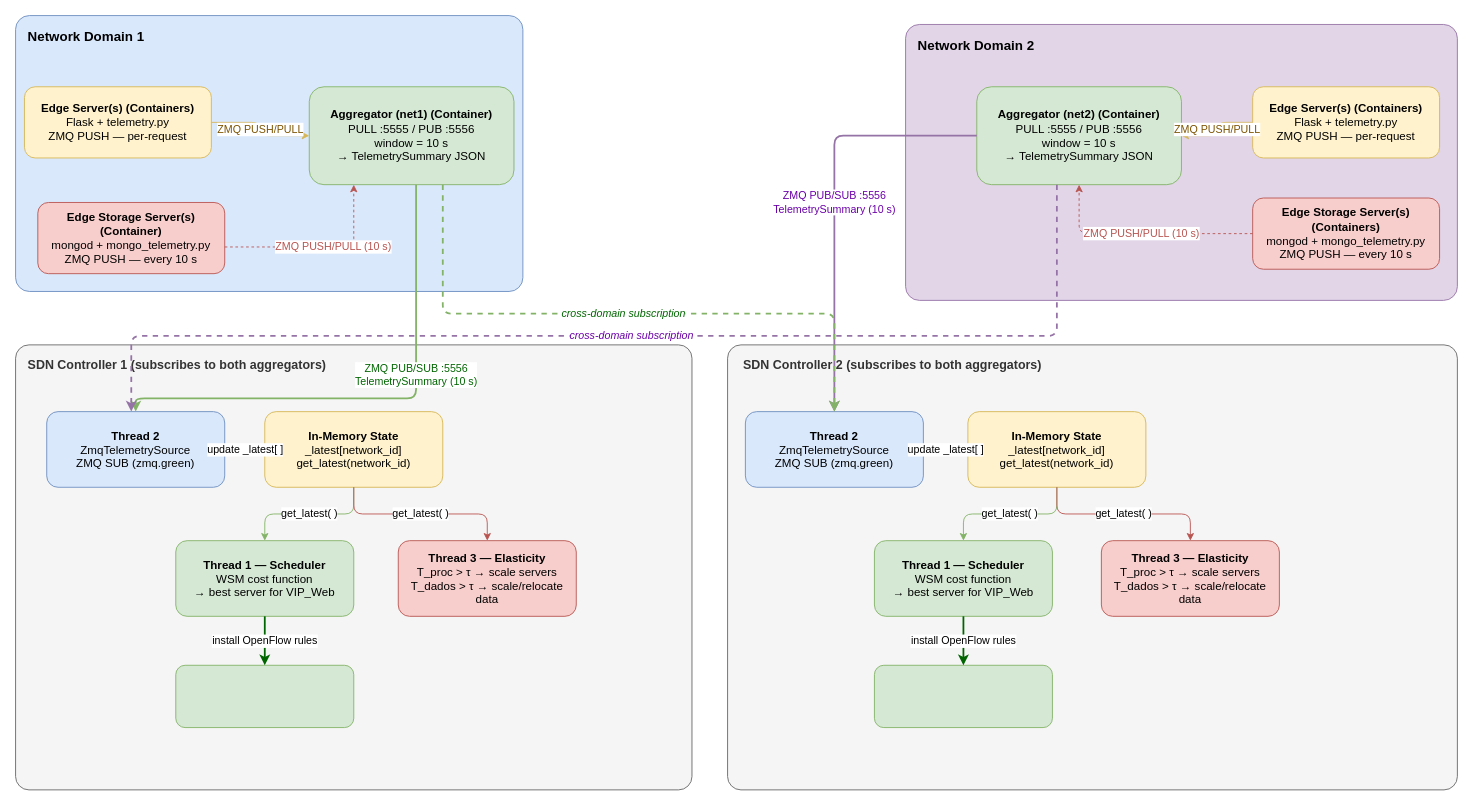
The diagram is 1473 pixels wide and 805 high, and some of its shapes have lost their labels. The shapes that lost their labels are listed below. From the top down, each one's centre as x and y in pixels, then its label:
pixel 264 696: OVS Switch (net1) OpenFlow DNAT/SNAT
pixel 963 696: OVS Switch (net2) OpenFlow DNAT/SNAT
